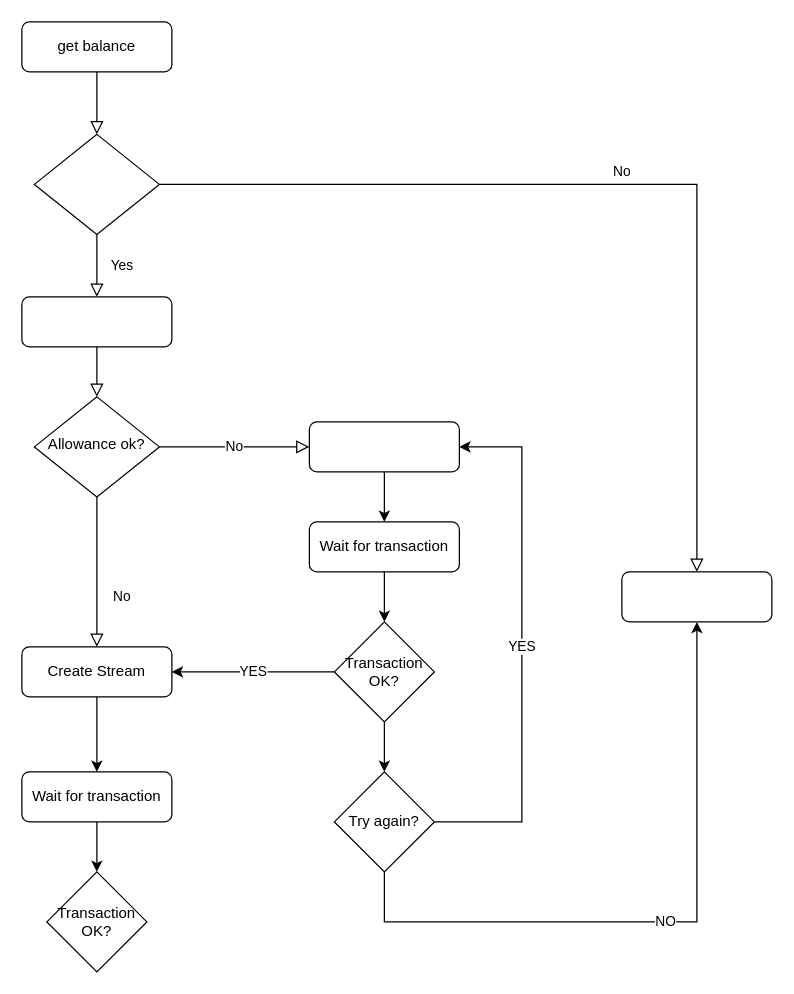
This 794x994 diagram has some shape labels left out. Each missing label, with the box of its shape:
Approve allowance: (308, 421, 459, 472)
Balance OK?: (33, 133, 159, 234)
check Allowance: (21, 296, 172, 347)
Error: (621, 571, 772, 622)
